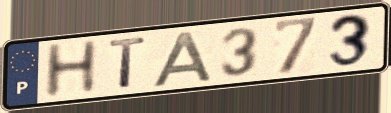3: (326, 11, 377, 71), (218, 25, 261, 79)
7: (272, 15, 320, 77)
A: (150, 29, 217, 89)
H: (41, 37, 101, 101)
T: (107, 35, 150, 91)
